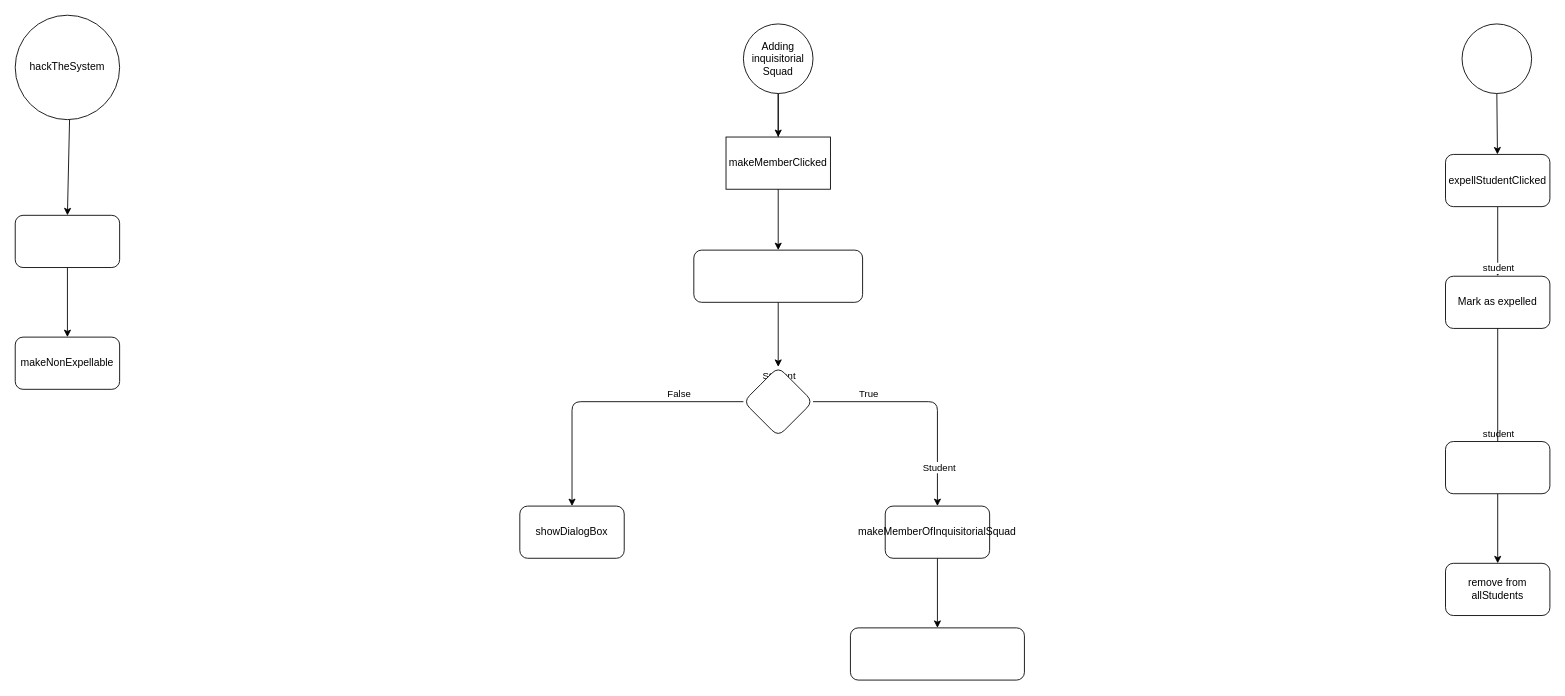
Some shapes in this 1565 by 696 pixel diagram are drawn without their labels. Here are the shapes that lost their labels. From the top down, the centre of each, then its label:
At point (67, 241): "putMeInList".
At point (778, 275): "TryToMakeStudentMember".
At point (778, 401): "Is student Pure blood or Slytherin?".
At point (1497, 467): "add to expelledStudents".
At point (937, 653): "set student.inquisitorialSquad = true".
